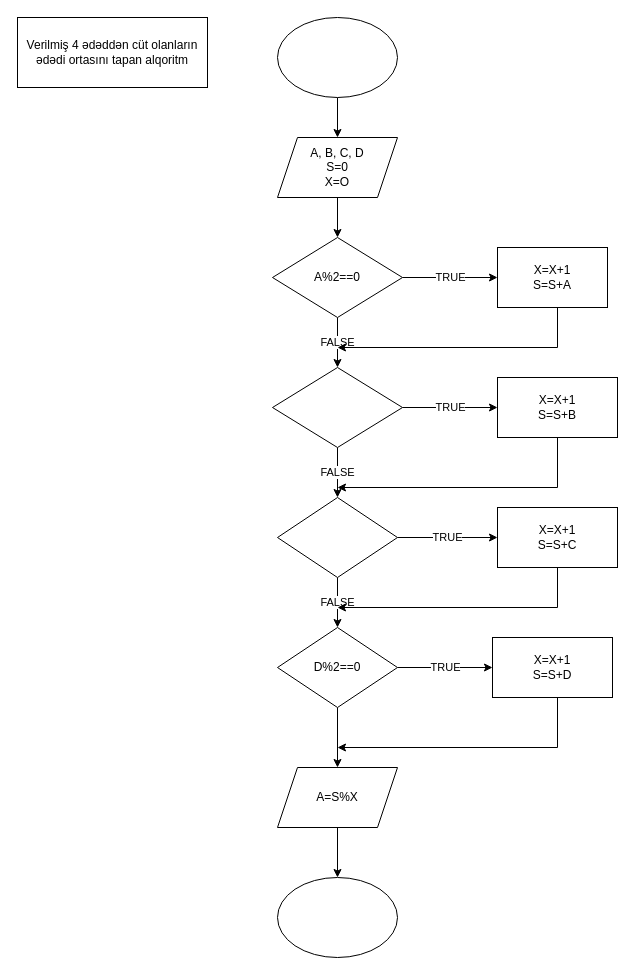
Image size: 635x975. Some labels were removed from this diagram. The centre of each missing label's shape, as x and y in pixels:
"B%2==0" goes at point 337,407.
"C%2==O" goes at point 337,537.
"END" goes at point 337,917.
"START" goes at point 337,57.
